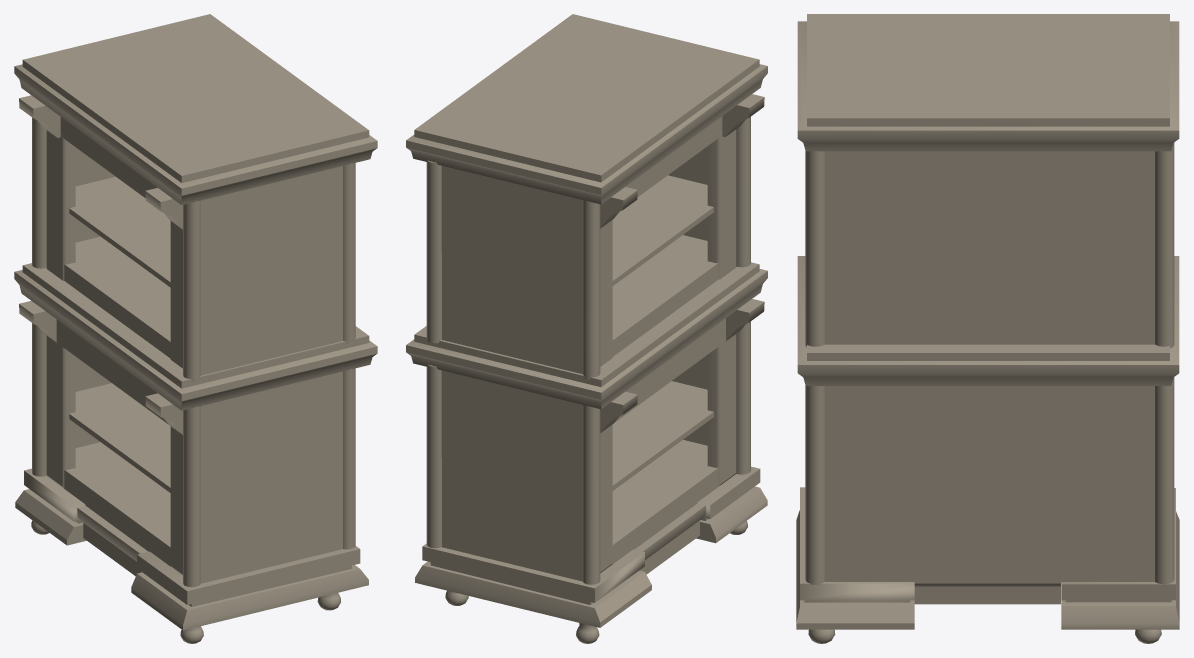
File: Cupboard_06_Lod0.fbx
The picture shows the model from 3 angles, left to right: view 1: azimuth 30°, elevation 25°; view 2: azimuth 150°, elevation 25°; view 3: azimuth 270°, elevation 25°; orthographic projection. The views are drawn at different scales.
Parts seen in each view (by area): view 1: Cupboard_06_Lod0; view 2: Cupboard_06_Lod0; view 3: Cupboard_06_Lod0.
Boxes of the visible parts, x1,y1,x2,y2 form: Cupboard_06_Lod0: (14, 14, 377, 643); Cupboard_06_Lod0: (406, 14, 767, 643); Cupboard_06_Lod0: (796, 14, 1179, 643).
Bounding box in the file's own units: 69.85 × 155 × 99.13.
